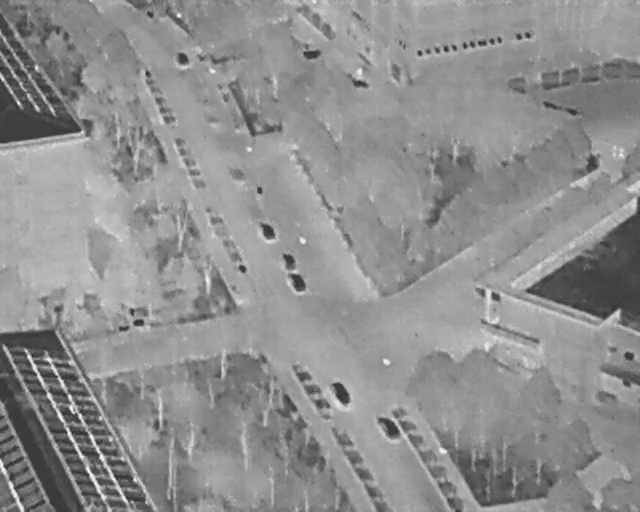Car: (374, 410, 403, 445), (330, 379, 353, 409), (288, 270, 308, 294), (279, 250, 297, 272), (260, 220, 277, 242), (174, 50, 189, 68)
